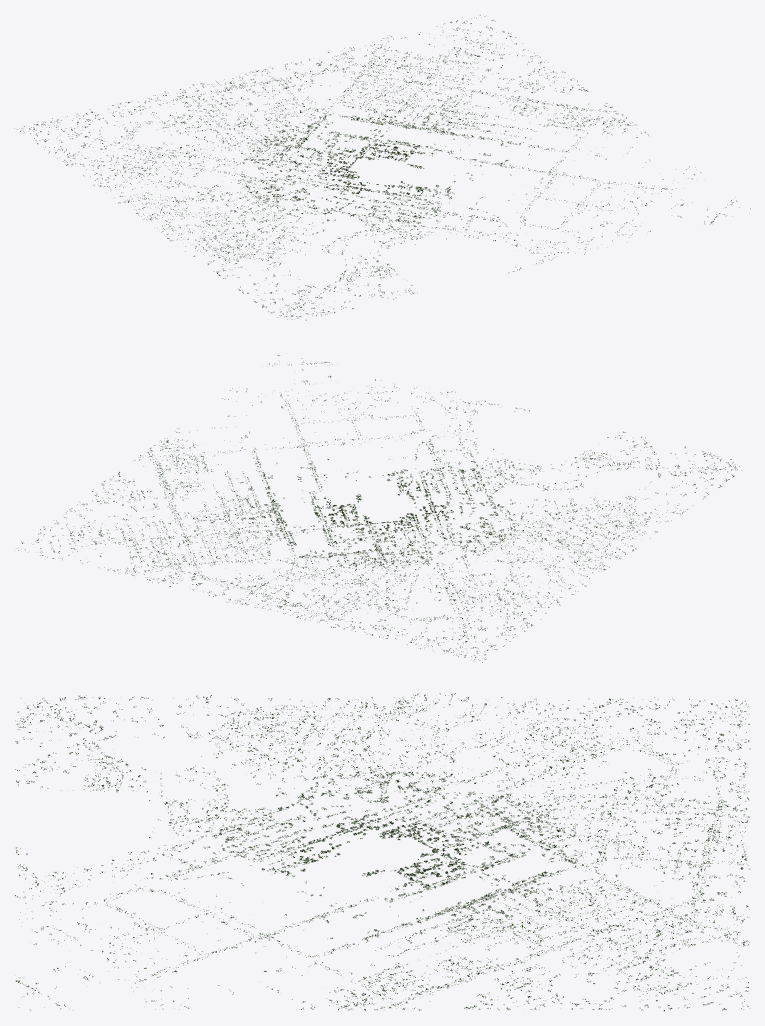
Rendered from cazalys_backdrop_part2.glb.
3 views of the same model, one above another, from view 1: azimuth 30°, elevation 25°; view 2: azimuth 150°, elevation 25°; view 3: azimuth 270°, elevation 25° (orthographic). The views are drawn at different scales.
Visible parts, largest first — view 1: bg_trees_joined_s14, bg_trees_joined_s13, bg_trees_joined_s15, bg_trees_joined_s12, bg_trees_joined_s08, bg_trees_joined.001, bg_trees_joined_s06, bg_trees_joined_s07, bg_trees_joined_s05, bg_trees_joined_s09, bg_trees_joined_s01; view 2: bg_trees_joined_s14, bg_trees_joined_s13, bg_trees_joined_s15, bg_trees_joined.001, bg_trees_joined_s12, bg_trees_joined_s08, bg_trees_joined_s06, bg_trees_joined_s07, bg_trees_joined_s09, bg_trees_joined_s05; view 3: bg_trees_joined.001, bg_trees_joined_s14, bg_trees_joined_s13, bg_trees_joined_s15, bg_trees_joined_s12, bg_trees_joined_s08, bg_trees_joined_s06, bg_trees_joined_s07, bg_trees_joined_s05, bg_trees_joined_s09, bg_trees_joined_s01, bg_trees_joined_s00 (+3 smaller).
Part boxes in pixels (<box>): bg_trees_joined_s14: <box>24,71,319,155</box>; bg_trees_joined_s13: <box>252,15,480,122</box>; bg_trees_joined_s15: <box>17,129,274,221</box>; bg_trees_joined_s12: <box>421,16,618,141</box>; bg_trees_joined_s08: <box>162,198,340,319</box>; bg_trees_joined.001: <box>14,21,749,315</box>; bg_trees_joined_s06: <box>268,125,370,166</box>; bg_trees_joined_s07: <box>258,159,359,196</box>; bg_trees_joined_s05: <box>326,116,414,159</box>; bg_trees_joined_s09: <box>292,220,519,320</box>; bg_trees_joined_s01: <box>358,181,445,222</box>; bg_trees_joined_s14: <box>254,554,479,660</box>; bg_trees_joined_s13: <box>18,522,315,604</box>; bg_trees_joined_s15: <box>417,534,609,662</box>; bg_trees_joined.001: <box>40,355,735,659</box>; bg_trees_joined_s12: <box>21,451,267,544</box>; bg_trees_joined_s08: <box>494,466,739,558</box>; bg_trees_joined_s06: <box>321,517,411,560</box>; bg_trees_joined_s07: <box>393,513,491,558</box>; bg_trees_joined_s09: <box>455,408,733,487</box>; bg_trees_joined_s05: <box>262,510,366,552</box>; bg_trees_joined.001: <box>17,695,748,1010</box>; bg_trees_joined_s14: <box>507,702,750,855</box>; bg_trees_joined_s13: <box>508,854,750,1006</box>; bg_trees_joined_s15: <box>382,693,745,801</box>; bg_trees_joined_s12: <box>382,910,743,1011</box>; bg_trees_joined_s08: <box>33,695,382,796</box>; bg_trees_joined_s06: <box>418,807,553,855</box>; bg_trees_joined_s07: <box>382,781,496,839</box>; bg_trees_joined_s05: <box>411,853,553,905</box>; bg_trees_joined_s09: <box>15,706,246,855</box>; bg_trees_joined_s01: <box>213,808,349,856</box>; bg_trees_joined_s00: <box>278,782,382,838</box>.
Bounding box in the file's own units: 3016 × 56.16 × 3012.
2 materials, 2 textured.
